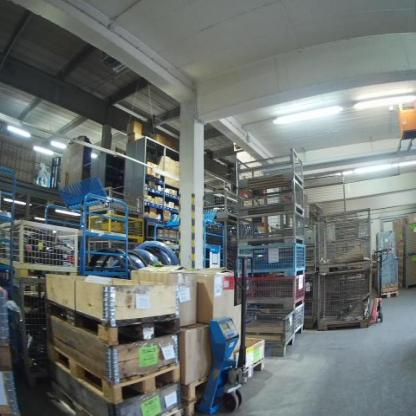pallet: (44, 336, 183, 407), (42, 291, 183, 346), (173, 367, 235, 400), (170, 393, 211, 416), (239, 357, 265, 388), (378, 290, 401, 300)
pallet_truck: (198, 254, 255, 413), (370, 248, 389, 327)
stillage: (1, 223, 77, 281), (11, 280, 46, 389), (316, 267, 372, 331), (318, 208, 374, 267), (235, 306, 294, 355), (235, 177, 306, 213), (236, 272, 305, 306), (236, 152, 306, 185), (236, 243, 309, 273), (238, 213, 306, 244), (86, 214, 145, 244), (86, 185, 144, 215), (404, 256, 416, 292), (402, 225, 416, 255), (294, 300, 304, 341)
